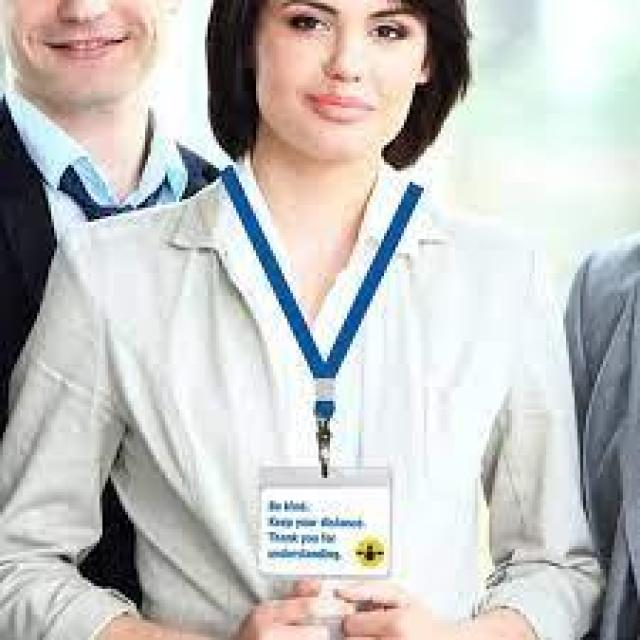Card: (270, 454, 396, 582)
